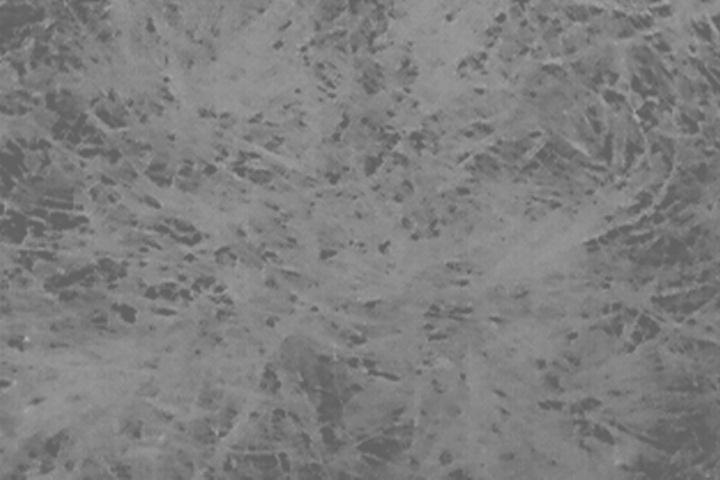landmine: (405, 321, 500, 395)
